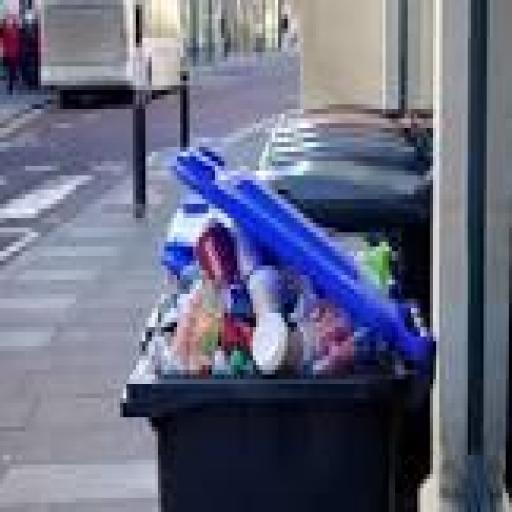poubelle_pleine: (97, 119, 440, 512)
